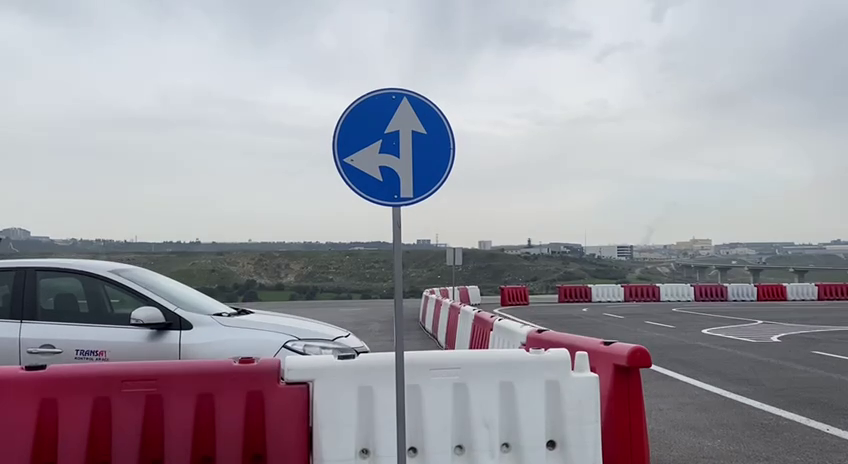forwardAndLeft: (329, 84, 458, 211)
